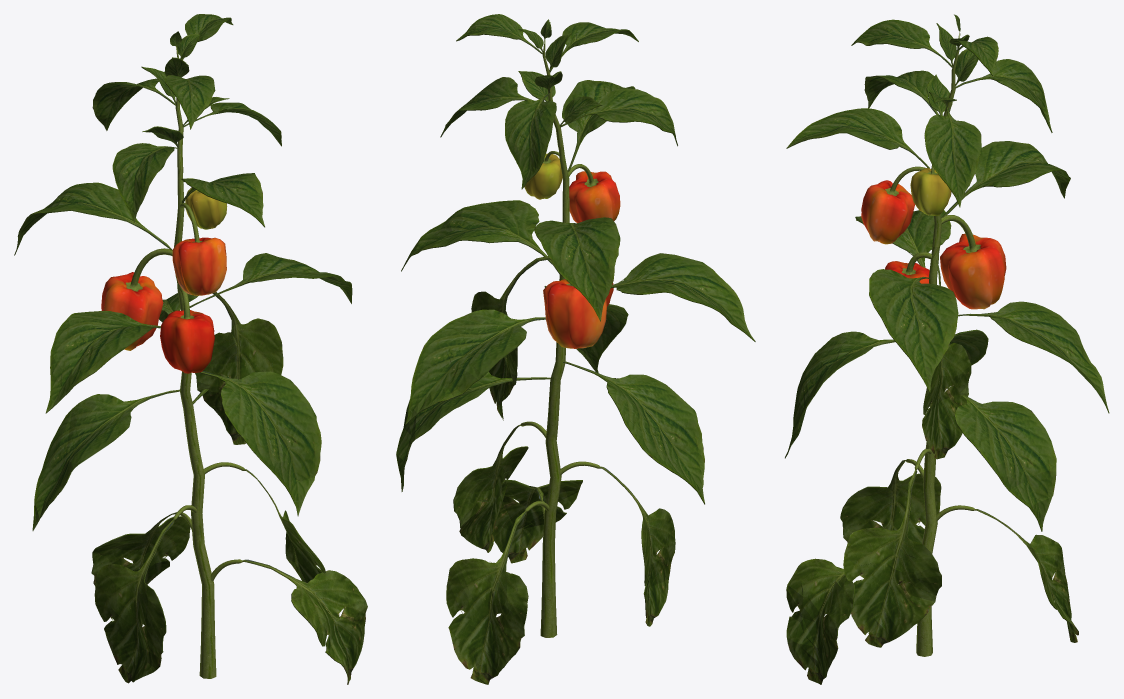
3 views of the same model, side by side, from view 1: azimuth 30°, elevation 25°; view 2: azimuth 150°, elevation 25°; view 3: azimuth 270°, elevation 25° (orthographic).
Parts seen in each view (by area): view 1: VG07_007; view 2: VG07_007; view 3: VG07_007.
Part boxes in pixels (box(x1,y1,x2,y2)): VG07_007: box(14, 14, 367, 684); VG07_007: box(396, 14, 755, 684); VG07_007: box(785, 14, 1109, 684).
Size of the model in its own units: 0.4396 by 0.3749 by 0.8042.
6 materials, 6 textured.
